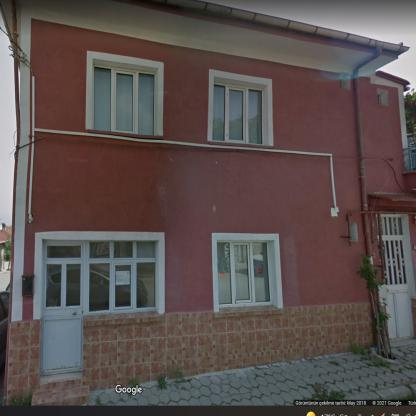door: (41, 262, 83, 374), (381, 215, 412, 338)
window: (44, 241, 157, 312), (92, 68, 155, 134), (217, 240, 272, 306), (213, 81, 263, 143)
